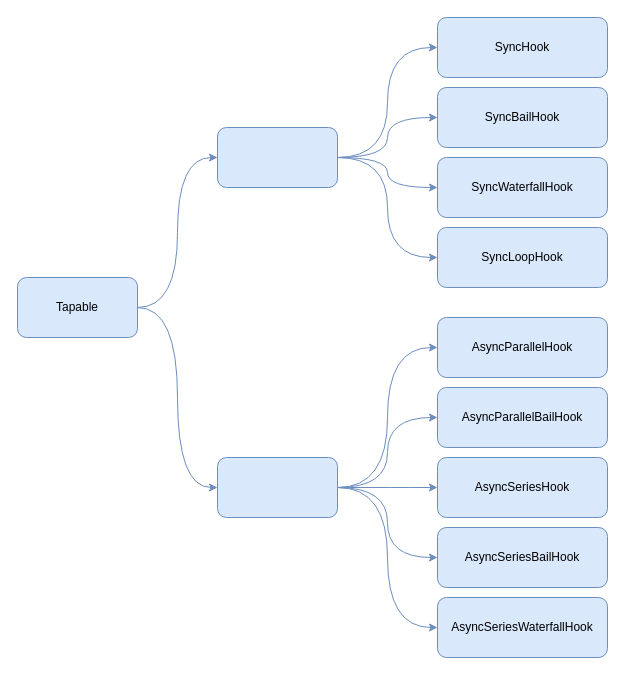
Some shapes in this 625 by 675 pixel diagram are drawn without their labels. The centre of each missing label's shape, as x and y in pixels:
"ASync*" belongs at (x=277, y=487).
"Sync*" belongs at (x=277, y=157).
